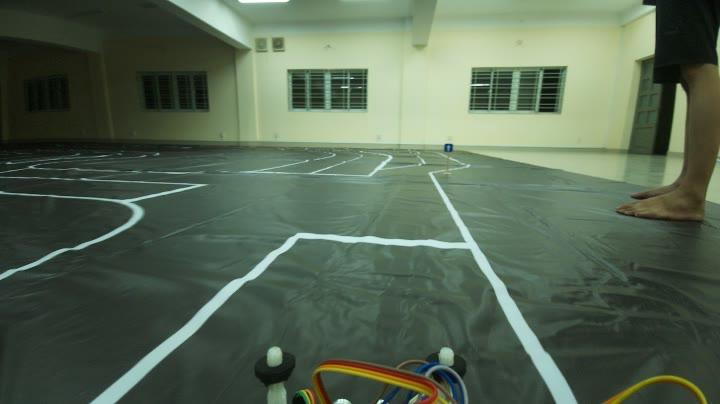onewayroad: (441, 139, 456, 157)
